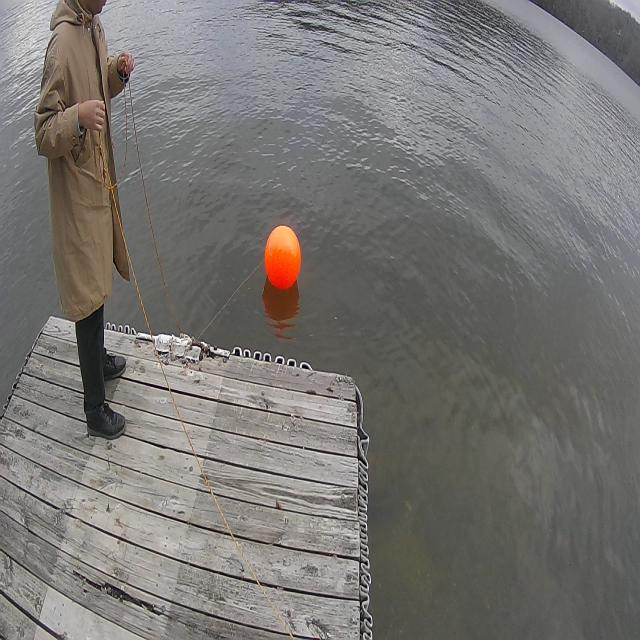Buoy: (257, 215, 305, 302)
